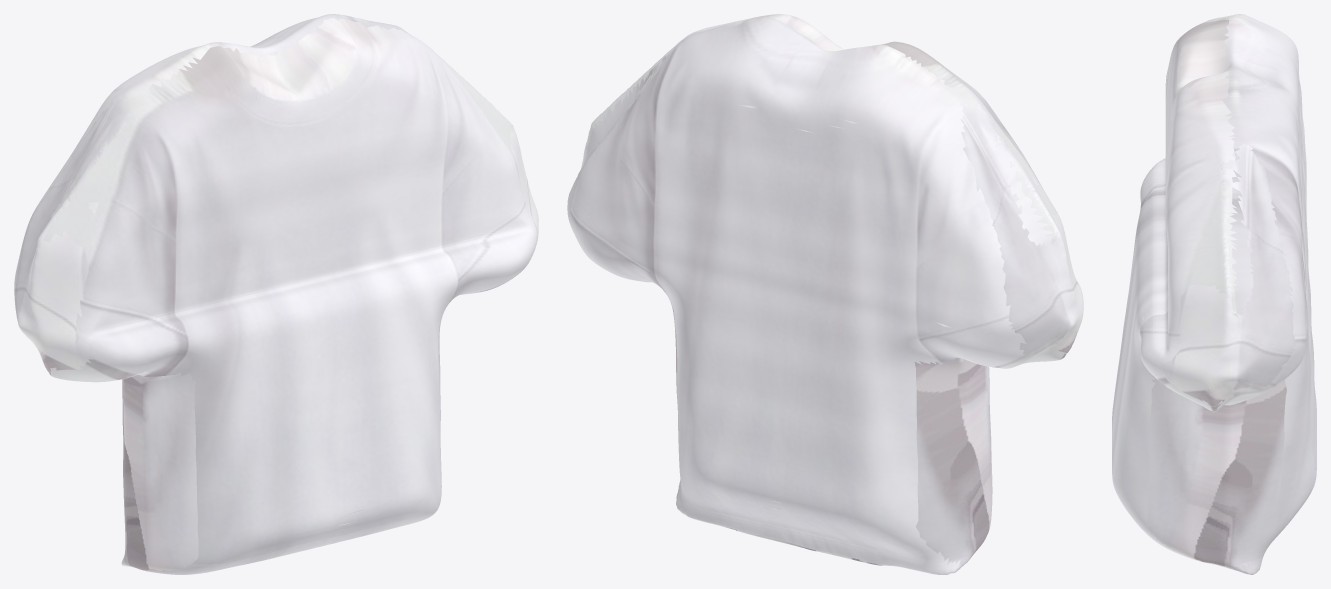
File: NF005-photo-v4.glb
3 renders of one model, left to right at view 1: azimuth 30°, elevation 25°; view 2: azimuth 150°, elevation 25°; view 3: azimuth 270°, elevation 25°, orthographic. The views are drawn at different scales.
Visible parts, largest first — view 1: NF005_worn_photo_fitted; view 2: NF005_worn_photo_fitted; view 3: NF005_worn_photo_fitted.
Part boxes in pixels (x1,y1,x2,y2): NF005_worn_photo_fitted: [14, 14, 538, 574]; NF005_worn_photo_fitted: [567, 14, 1083, 574]; NF005_worn_photo_fitted: [1112, 14, 1316, 574].
Bounding box in the file's own units: 0.6484 × 0.628 × 0.2482.
Materials: 3 (3 with a texture image).
